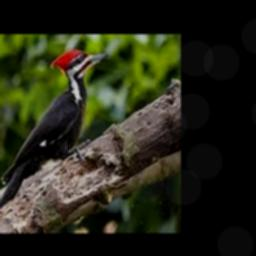Woodpecker: (0, 48, 110, 217)
